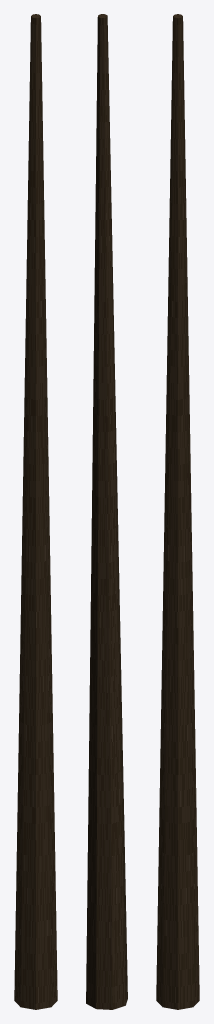
The model's file is level_hc_native_261_0.glb.
The picture shows the model from 3 angles, left to right: view 1: azimuth 90°, elevation 25°; view 2: azimuth 150°, elevation 25°; view 3: azimuth 270°, elevation 25°; orthographic projection.
Parts seen in each view (by area): view 1: level_hc_native_261_0; view 2: level_hc_native_261_0; view 3: level_hc_native_261_0.
Boxes of the visible parts, x1,y1,x2,y2 form: level_hc_native_261_0: [14, 14, 57, 1009]; level_hc_native_261_0: [86, 14, 127, 1009]; level_hc_native_261_0: [156, 14, 199, 1009].
Bounding box in the file's own units: 0.5287 × 13.22 × 0.5288.
1 material, 1 textured.
